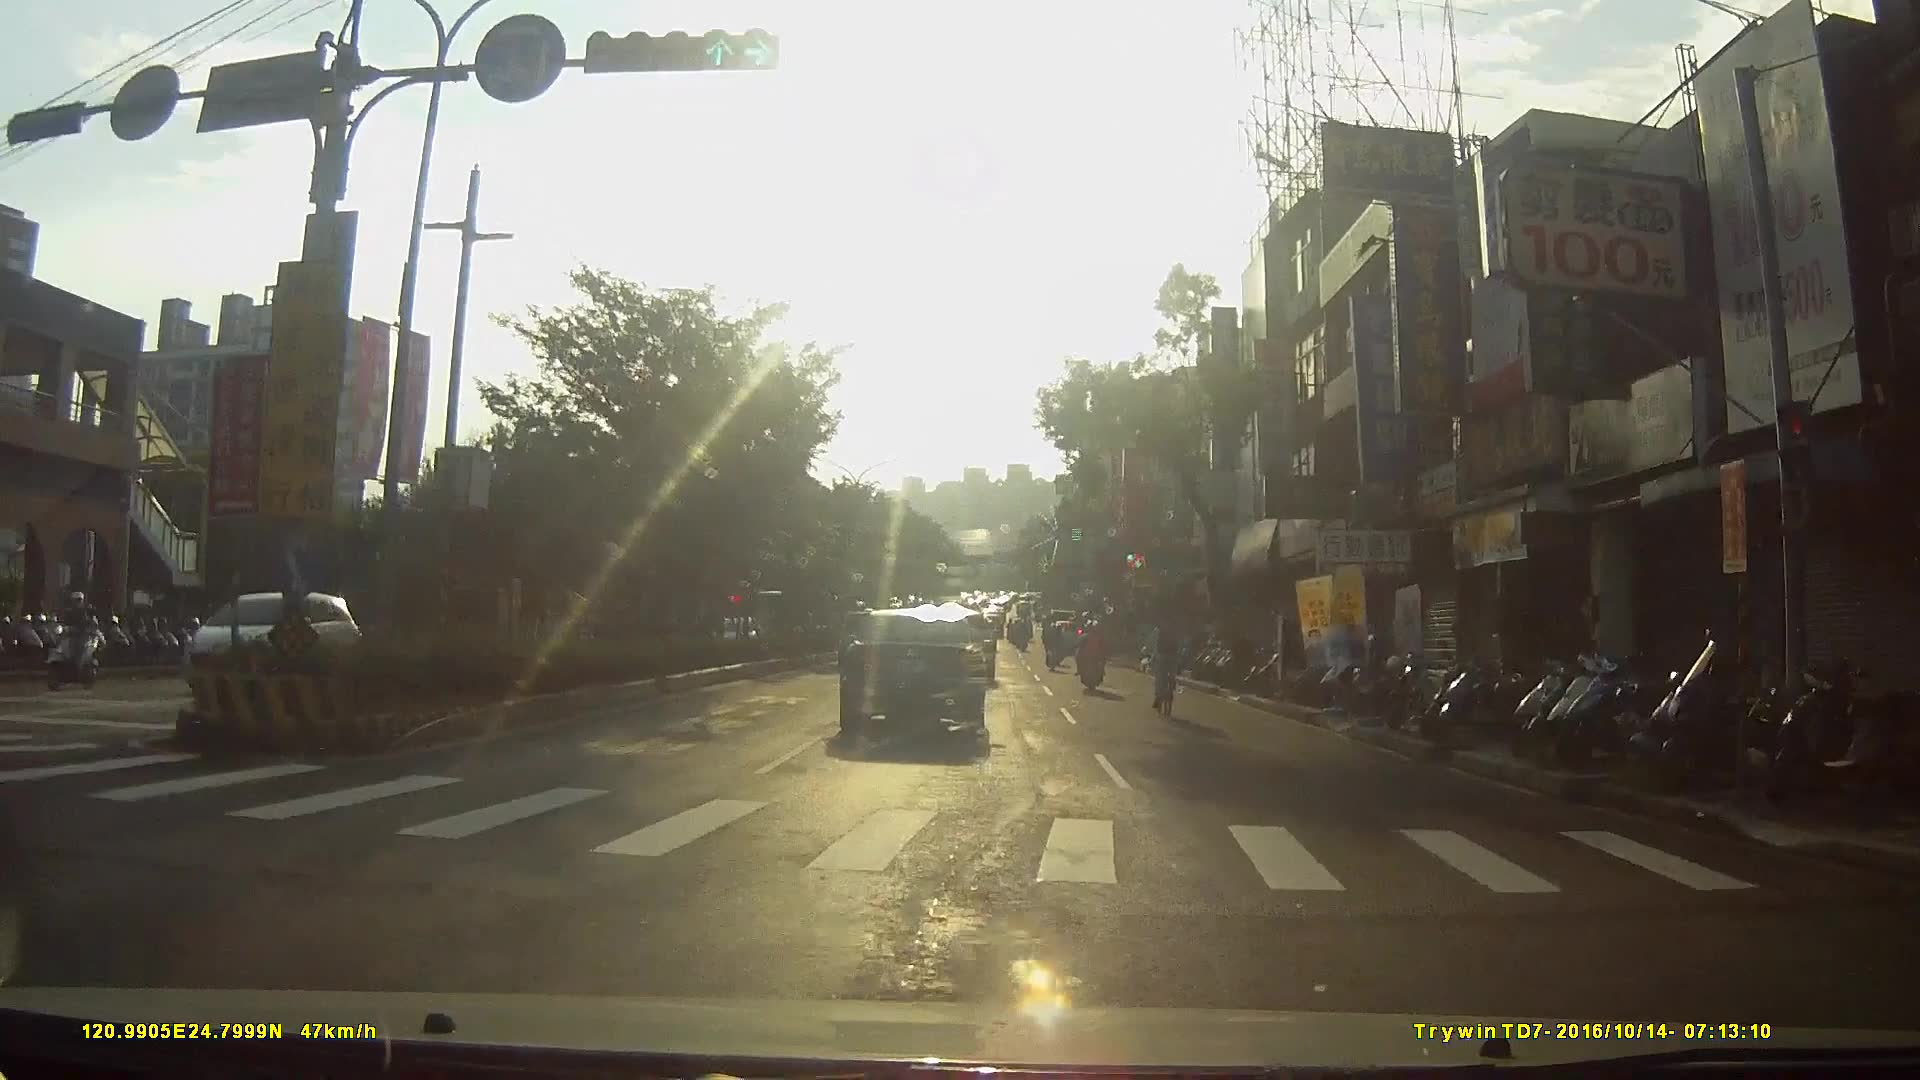rider: (47, 591, 104, 689), (1142, 608, 1191, 719), (1077, 621, 1108, 694), (1042, 622, 1066, 673)
vehicle: (839, 606, 999, 750), (172, 587, 370, 697)
